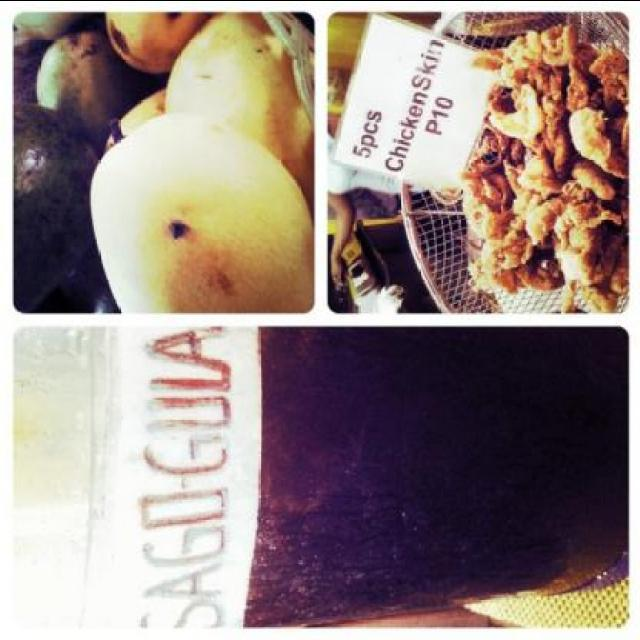Potato: (10, 7, 316, 311)
